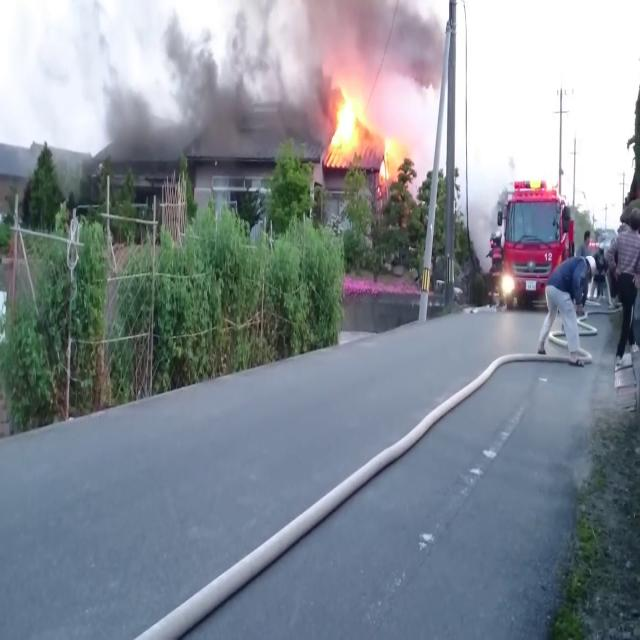fire: (337, 91, 360, 151)
